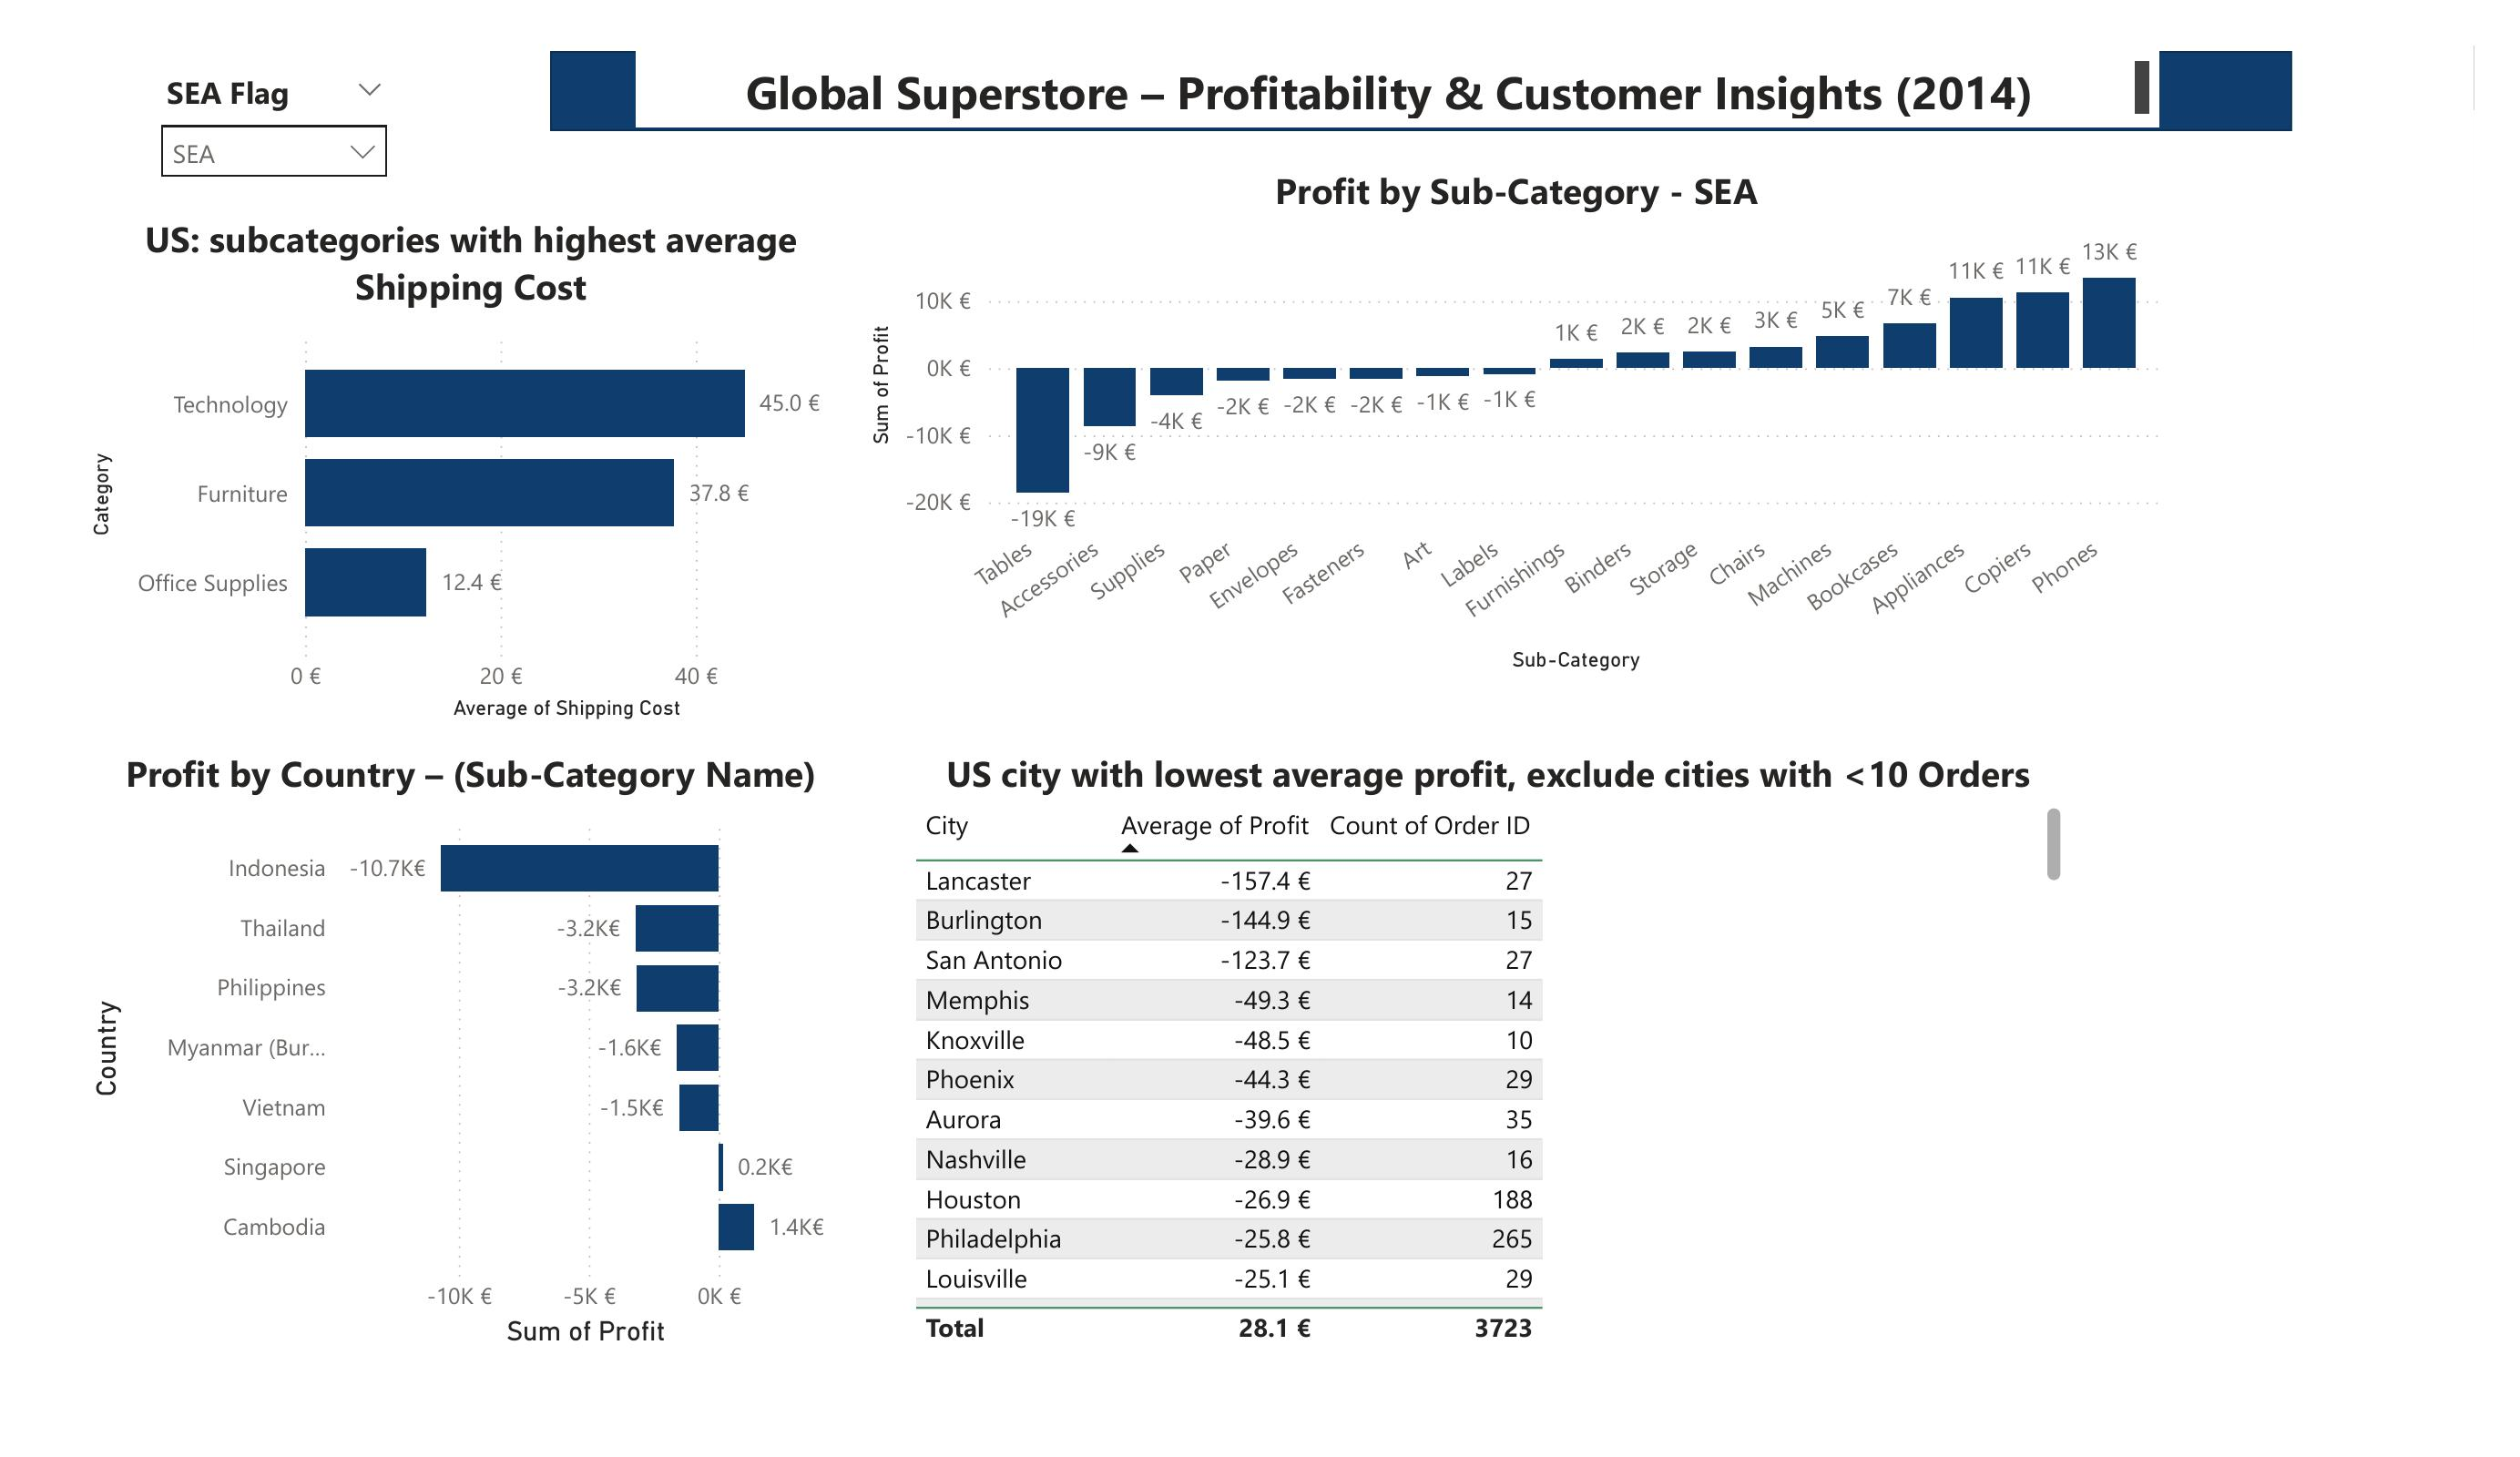

Layout of this report page (visuals, bound fields, positions):
{"tool":"powerbi","page":{"name":"Q4 ,Q5,Q6 &Q7","canvas":[1280,720],"ordinal":2},"visuals":[{"type":"slicer","fields":{"Values":["Orders.SEA Flag"]},"box":[50.9,9,138.7,67.8],"z":0},{"type":"clusteredColumnChart","title":" Profit by Sub-Category - SEA","fields":{"Category":["Orders.Sub-Category"],"Y":["Sum(Orders.Profit)"]},"box":[430,63.8,691.2,271.2],"z":1000},{"type":"clusteredBarChart","title":"Profit by Country – (Sub-Category Name)","fields":{"Y":["Sum(Orders.Profit)"],"Category":["Orders.Country"]},"box":[18.8,371.2,411.2,320],"z":2000},{"type":"tableEx","title":"US city with lowest average profit, exclude cities with <10 Orders","fields":{"Values":["Orders.City","Avg(Orders.Profit)","Orders.Order ID"]},"box":[452.5,371.2,615,320],"z":3000},{"type":"shape","box":[266,3.5,917.6,41.8],"z":4000},{"type":"textbox","box":[311.3,3.5,802.6,39.5],"z":5000},{"type":"clusteredBarChart","title":"US: subcategories with highest average Shipping Cost","fields":{"Category":["Orders.Category"],"Y":["Avg(Orders.Shipping Cost)"]},"box":[18.8,88.8,411.2,271.2],"z":6000}]}

Visuals, with their boxes in screenshot pixels (x1, y1, x2, y2):
slicer - Orders.SEA Flag: bbox(142, 63, 405, 191)
" Profit by Sub-Category - SEA" clusteredColumnChart: bbox(862, 167, 2173, 681)
"Profit by Country – (Sub-Category Name)" clusteredBarChart: bbox(81, 749, 862, 1357)
"US city with lowest average profit, exclude cities with <10 Orders" tableEx: bbox(904, 749, 2071, 1357)
shape: bbox(550, 52, 2291, 131)
textbox: bbox(637, 52, 2159, 127)
"US: subcategories with highest average Shipping Cost" clusteredBarChart: bbox(81, 214, 862, 728)
